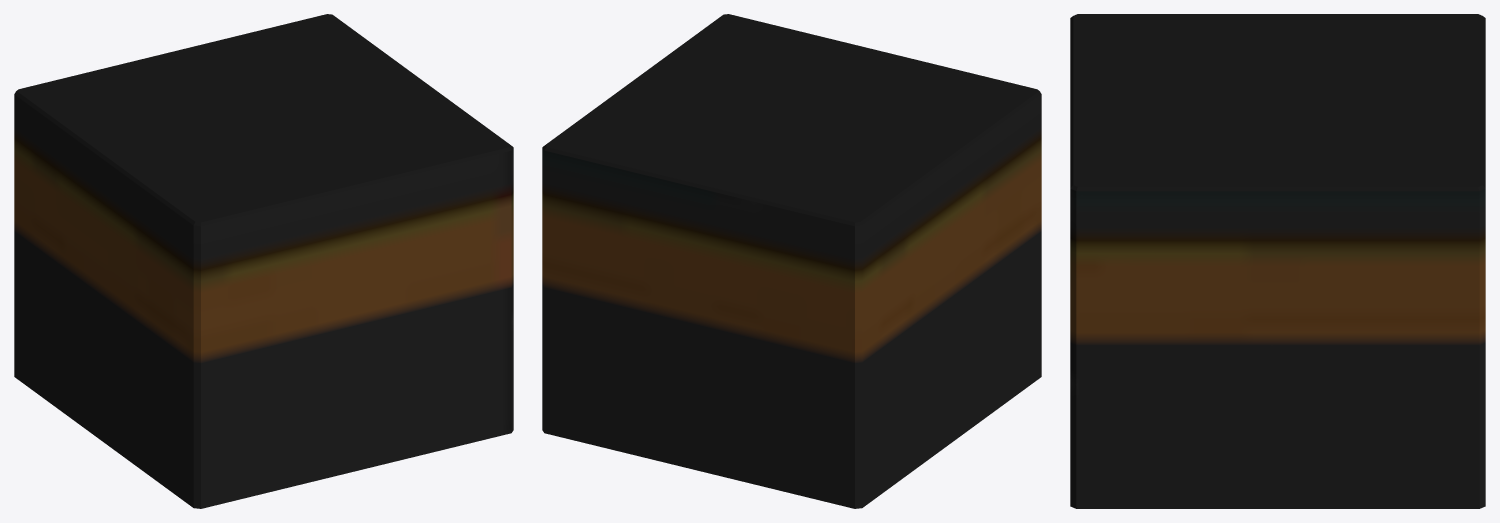
The model's file is block_2.fbx.
3 renders of one model, left to right at view 1: azimuth 30°, elevation 25°; view 2: azimuth 150°, elevation 25°; view 3: azimuth 270°, elevation 25°, orthographic. The views are drawn at different scales.
Parts seen in each view (by area): view 1: S_export_cube196; view 2: S_export_cube196; view 3: S_export_cube196.
Part boxes in pixels (x1,y1,x2,y2): S_export_cube196: [14, 14, 513, 508]; S_export_cube196: [542, 14, 1041, 508]; S_export_cube196: [1070, 14, 1485, 508].
Size of the model in its own units: 100 by 85.13 by 100.
